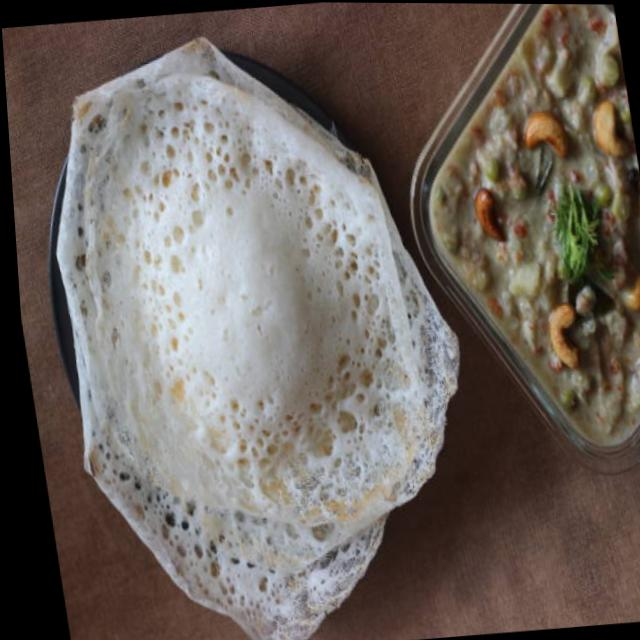AAPAM: (53, 34, 459, 640)
CURRY: (428, 4, 640, 456)
